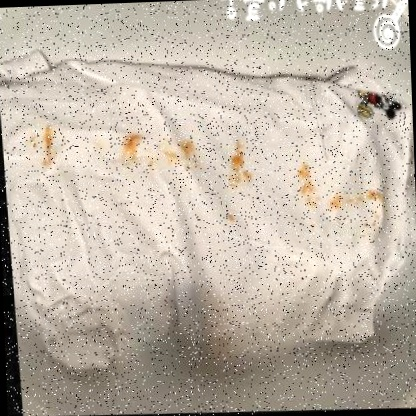kimchi: (297, 174, 388, 225), (109, 133, 205, 178), (220, 141, 258, 193), (25, 125, 57, 171), (290, 158, 319, 186), (223, 209, 243, 227)
